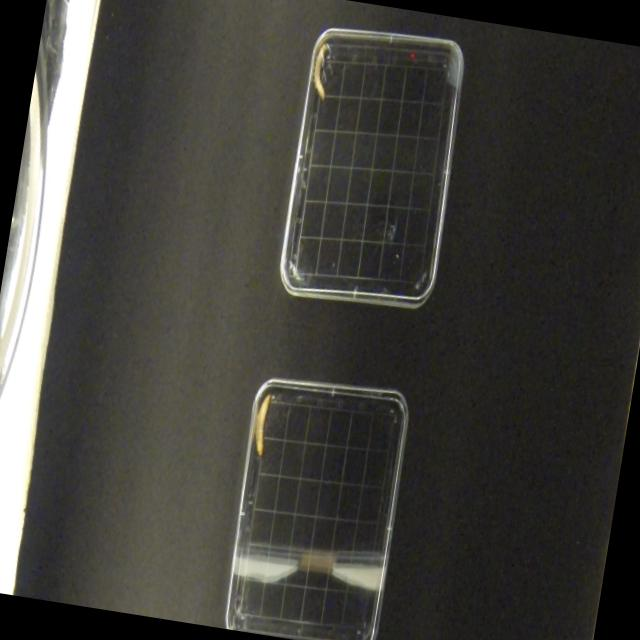larva: (250, 390, 276, 460), (310, 42, 333, 100)
